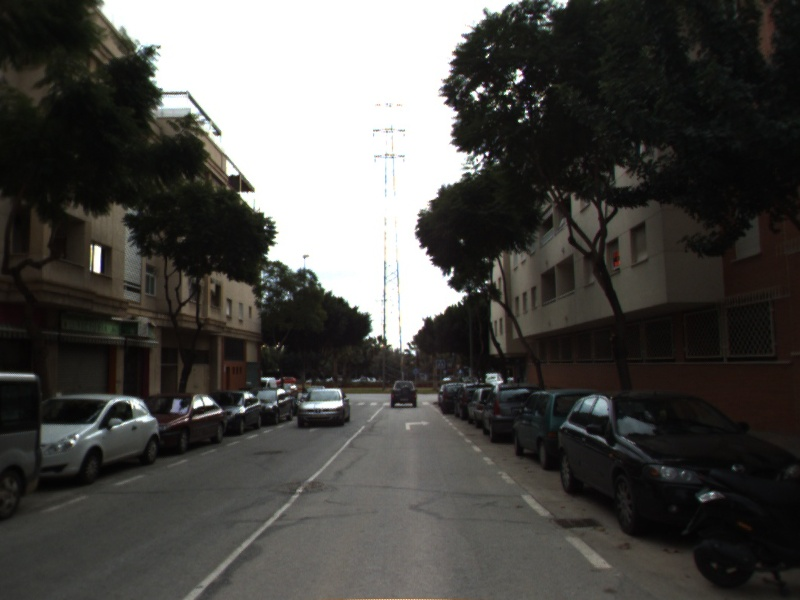RIGHT: (403, 418, 433, 432)
